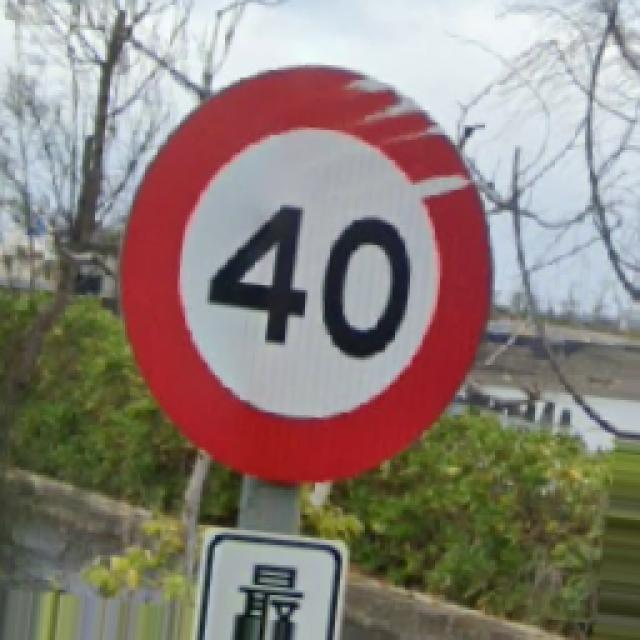Speed Limit -40-: (125, 68, 488, 480)
